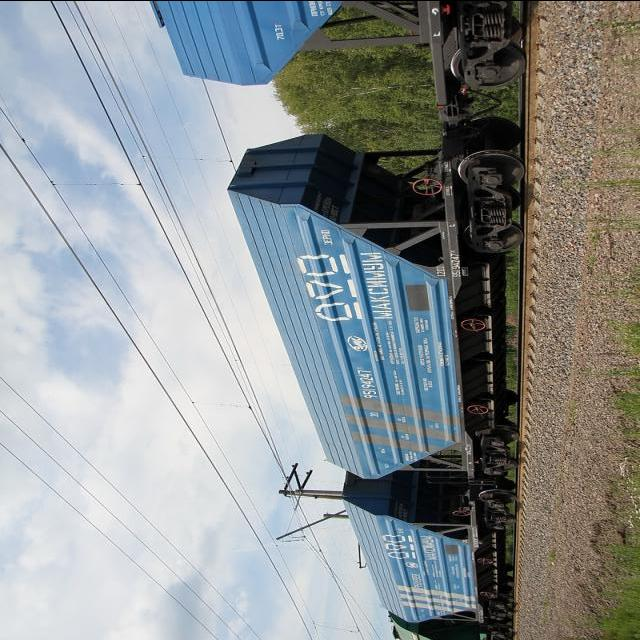wagon: (355, 367, 379, 399), (448, 251, 462, 277)
